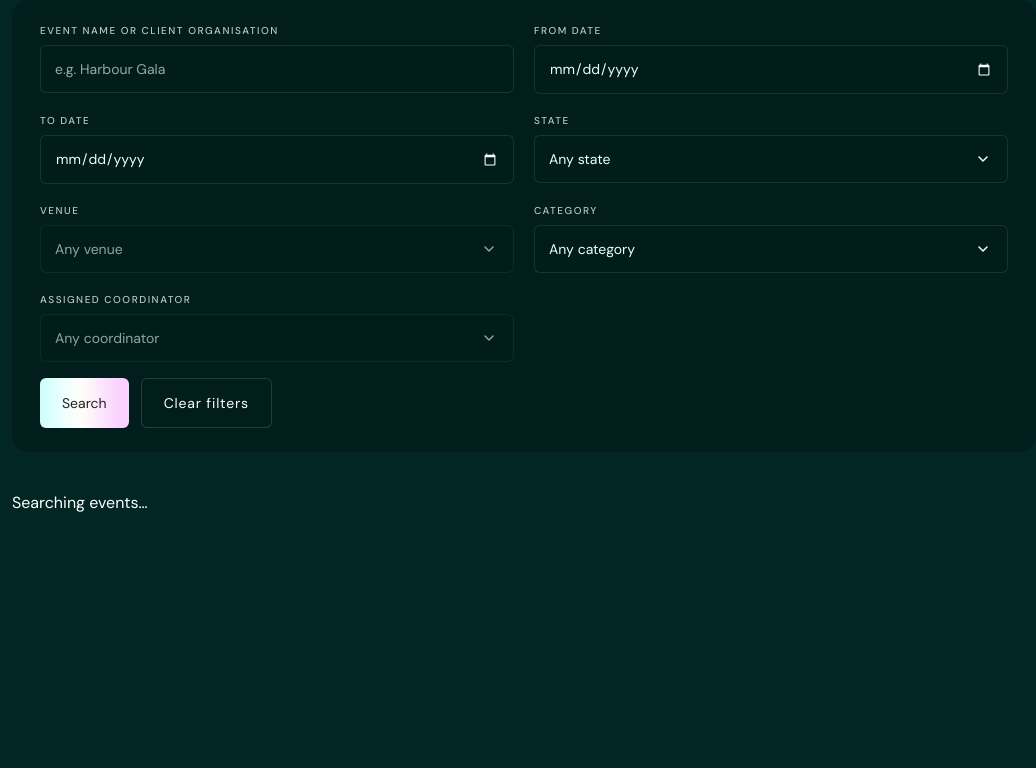
Test: EventSearch (SG2-70) › [CONFLICT] [SG2-70:AC1] a slower earlier search never replaces the results of a newer one
The image size is (1036, 768).
Type "coastal" into the search field labelled "Event name or client organisation" at (277, 69), box [40,45,514,93]
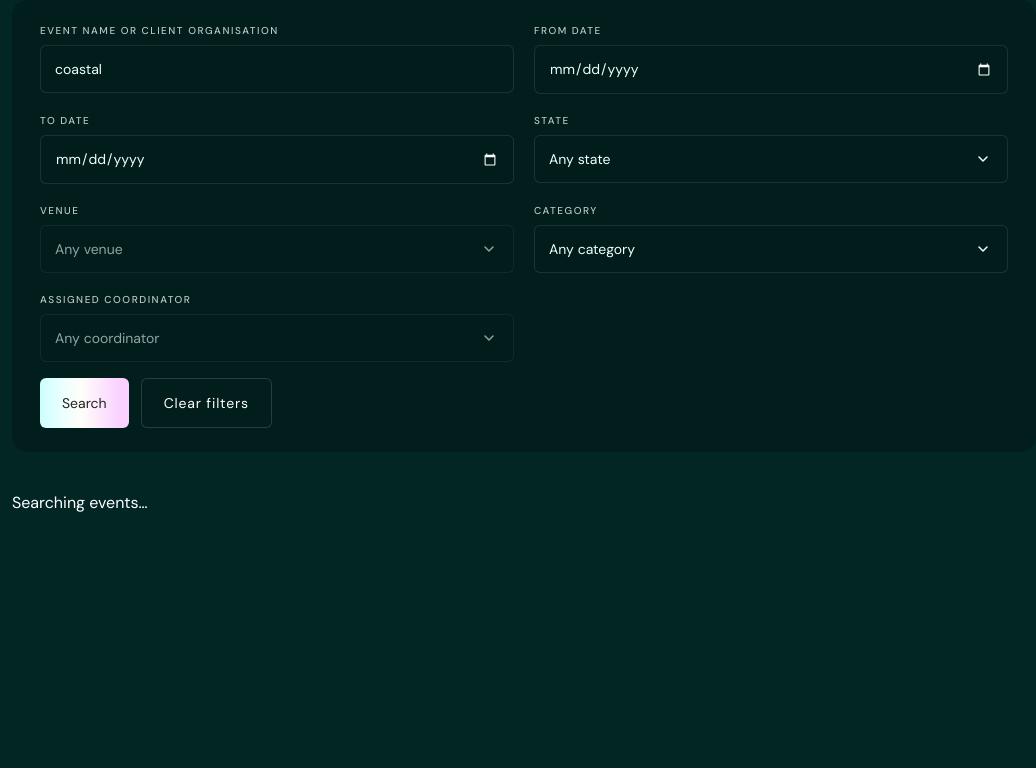
Click the button "Search" at (84, 403), box [40,378,129,428]
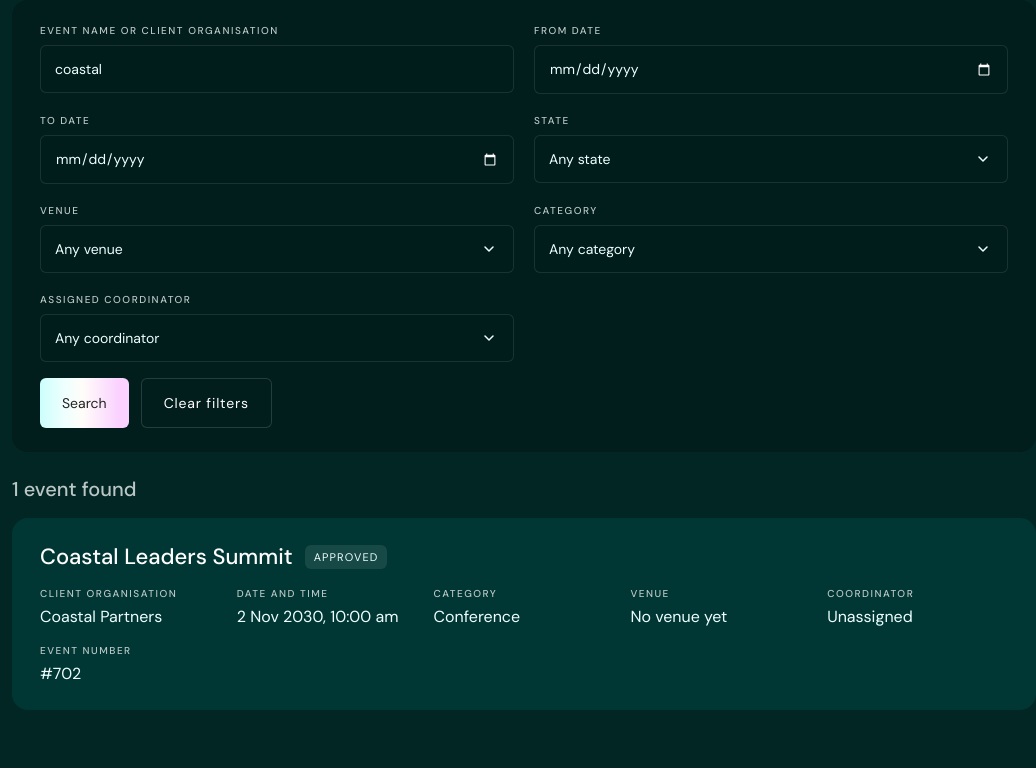
Expected: the element "Harbour Gala" is not shown
Expected: the element "Coastal Leaders Summit" is shown, [40,542,1008,686]
Expected: the heading "1 event found" is shown, [12,476,136,502]
